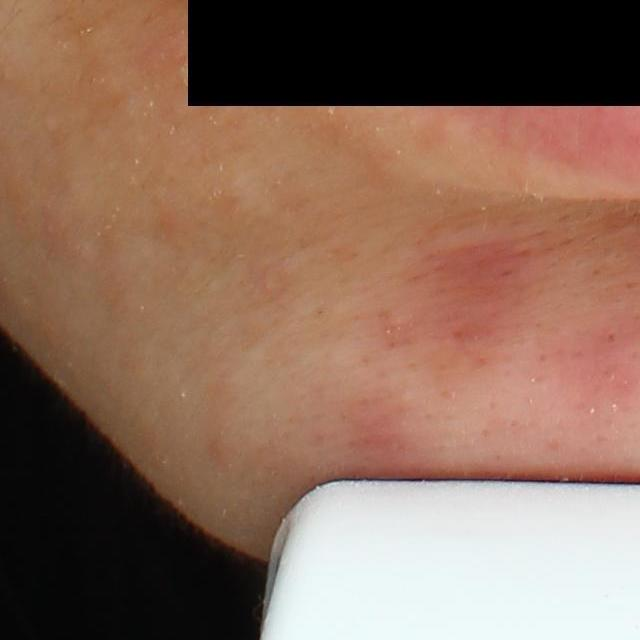hypertrophic_scar: (225, 173, 281, 226)
